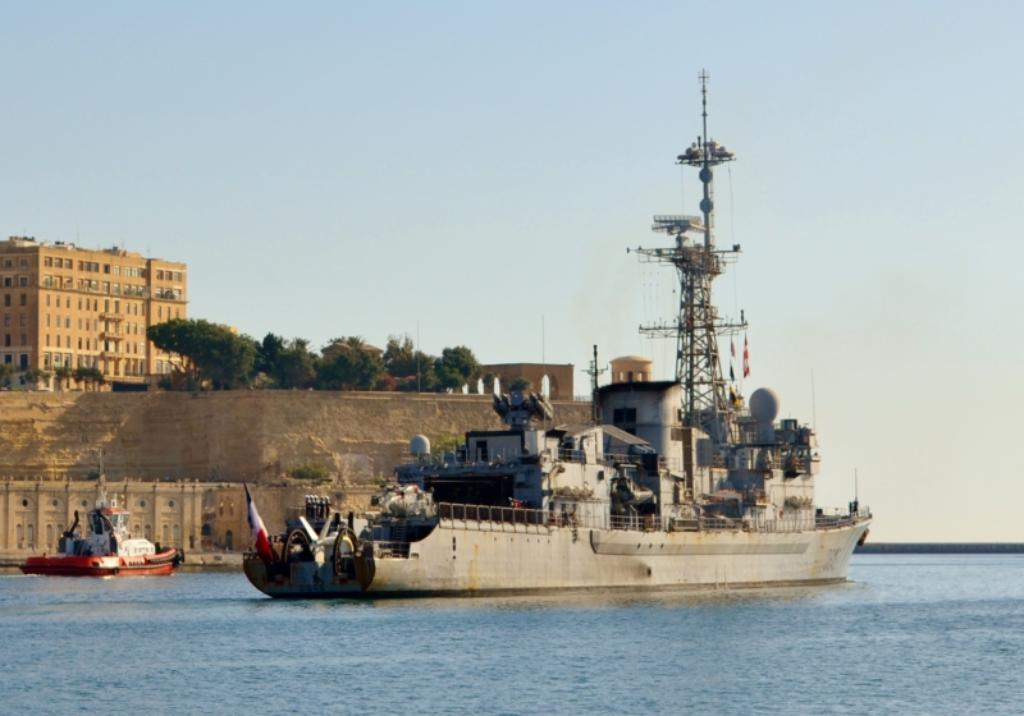Warship: (240, 62, 876, 606)
